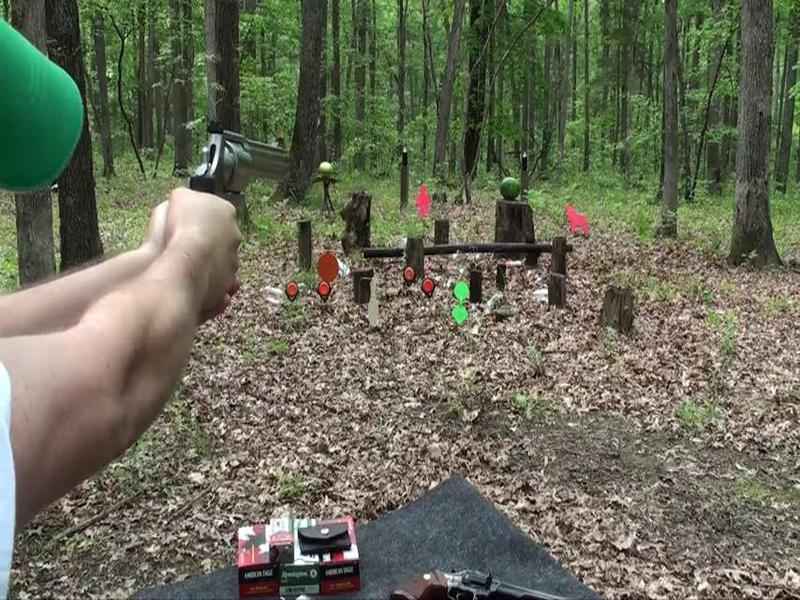Revolver: (199, 120, 324, 257)
